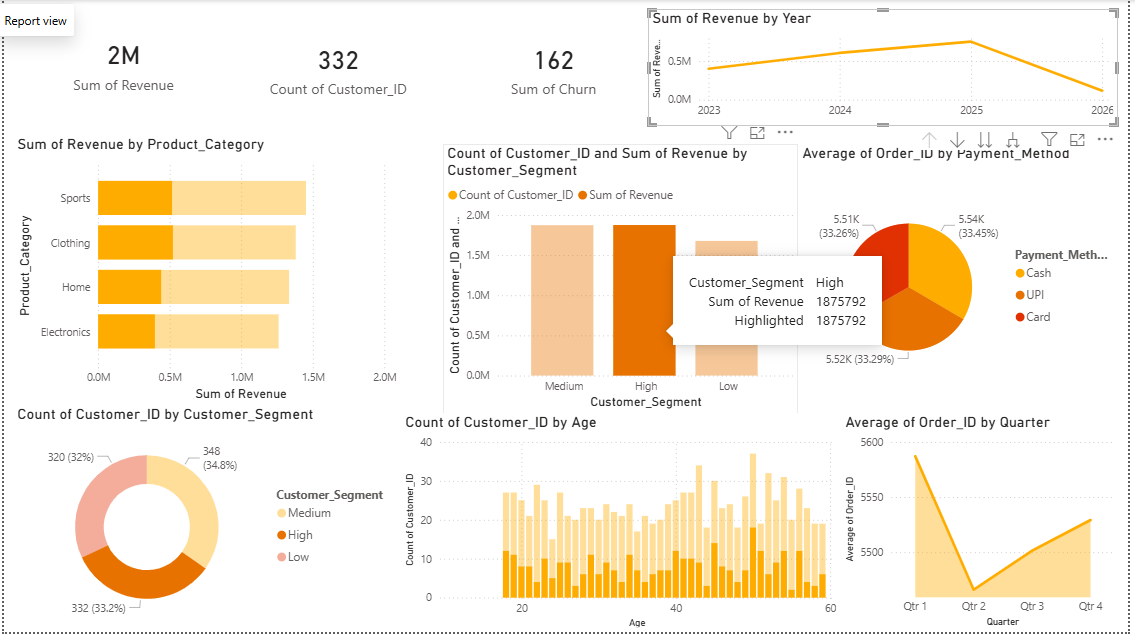

This screenshot's page, from the dashboard's own definition file:
{"tool":"powerbi","page":{"name":"Page 1","canvas":[1280,720],"ordinal":0},"visuals":[{"type":"card","fields":{"Values":["Sum(dashboard_dataset.Revenue)"]},"box":[10.3,0,251.9,143.9],"z":0},{"type":"card","fields":{"Values":["CountNonNull(dashboard_dataset.Customer_ID)"]},"box":[262.2,10.3,237.8,133.7],"z":1000},{"type":"card","fields":{"Values":["Sum(dashboard_dataset.Churn)"]},"box":[499.9,10.3,251.9,133.7],"z":2000},{"type":"lineChart","fields":{"Category":["dashboard_dataset.Order_Date.Variation.Date Hierarchy.Year","dashboard_dataset.Order_Date.Variation.Date Hierarchy.Quarter","dashboard_dataset.Order_Date.Variation.Date Hierarchy.Month","dashboard_dataset.Order_Date.Variation.Date Hierarchy.Day"],"Y":["Sum(dashboard_dataset.Revenue)"]},"box":[733.7,10.3,535.4,133.3],"z":3000},{"type":"donutChart","fields":{"Category":["dashboard_dataset.Customer_Segment"],"Y":["CountNonNull(dashboard_dataset.Customer_ID)"]},"box":[10,461,442,259],"z":4000},{"type":"columnChart","fields":{"Category":["dashboard_dataset.Customer_Segment"],"Y":["CountNonNull(dashboard_dataset.Customer_ID)","Sum(dashboard_dataset.Revenue)"]},"box":[499.9,164.5,404.8,307.1],"z":5000},{"type":"clusteredBarChart","fields":{"Category":["dashboard_dataset.Product_Category"],"Y":["Sum(dashboard_dataset.Revenue)"]},"box":[10.3,154.2,442.1,307.1],"z":6000},{"type":"pieChart","fields":{"Y":["Avg(dashboard_dataset.Order_ID)"],"Category":["dashboard_dataset.Payment_Method"]},"box":[905,164,364,307],"z":7000},{"type":"clusteredColumnChart","fields":{"Y":["CountNonNull(dashboard_dataset.Customer_ID)"],"Category":["dashboard_dataset.Age"]},"box":[452.4,470.4,501.2,249.3],"z":8000},{"type":"areaChart","fields":{"Category":["dashboard_dataset.Order_Date.Variation.Date Hierarchy.Quarter"],"Y":["Avg(dashboard_dataset.Order_ID)"]},"box":[953,471,316,248],"z":9000}]}

Visuals, with their boxes in screenshot pixels (x1, y1, x2, y2):
card - Sum(dashboard_dataset.Revenue): pyautogui.locateOnScreen(24, 6, 244, 132)
card - CountNonNull(dashboard_dataset.Customer_ID): pyautogui.locateOnScreen(244, 15, 452, 132)
card - Sum(dashboard_dataset.Churn): pyautogui.locateOnScreen(452, 15, 672, 132)
lineChart - dashboard_dataset.Order_Date.Variation.Date Hierarchy.Year x dashboard_dataset.Order_Date.Variation.Date Hierarchy.Quarter: pyautogui.locateOnScreen(656, 15, 1125, 131)
donutChart - dashboard_dataset.Customer_Segment x CountNonNull(dashboard_dataset.Customer_ID): pyautogui.locateOnScreen(24, 409, 410, 636)
columnChart - dashboard_dataset.Customer_Segment x CountNonNull(dashboard_dataset.Customer_ID): pyautogui.locateOnScreen(452, 150, 806, 418)
clusteredBarChart - dashboard_dataset.Product_Category x Sum(dashboard_dataset.Revenue): pyautogui.locateOnScreen(24, 141, 410, 409)
pieChart - Avg(dashboard_dataset.Order_ID) x dashboard_dataset.Payment_Method: pyautogui.locateOnScreen(806, 149, 1124, 418)
clusteredColumnChart - CountNonNull(dashboard_dataset.Customer_ID) x dashboard_dataset.Age: pyautogui.locateOnScreen(410, 417, 849, 635)
areaChart - dashboard_dataset.Order_Date.Variation.Date Hierarchy.Quarter x Avg(dashboard_dataset.Order_ID): pyautogui.locateOnScreen(848, 418, 1124, 635)
